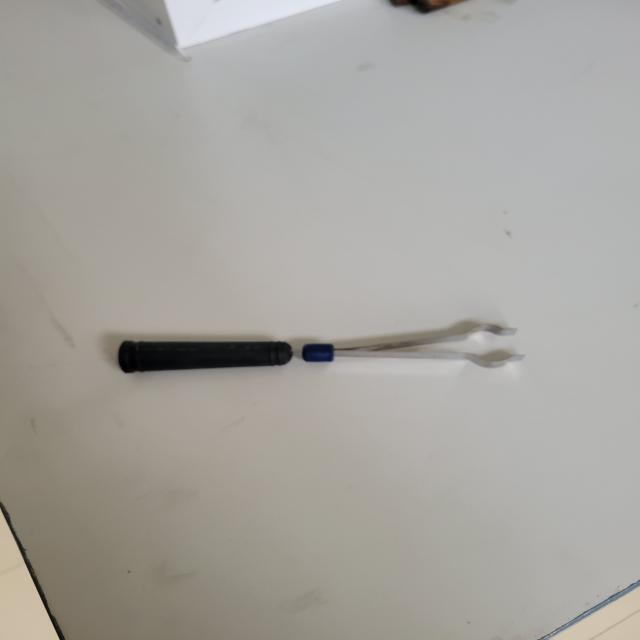TestTube_Holder: (89, 305, 533, 423)
